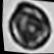correct: (3, 0, 54, 53)
